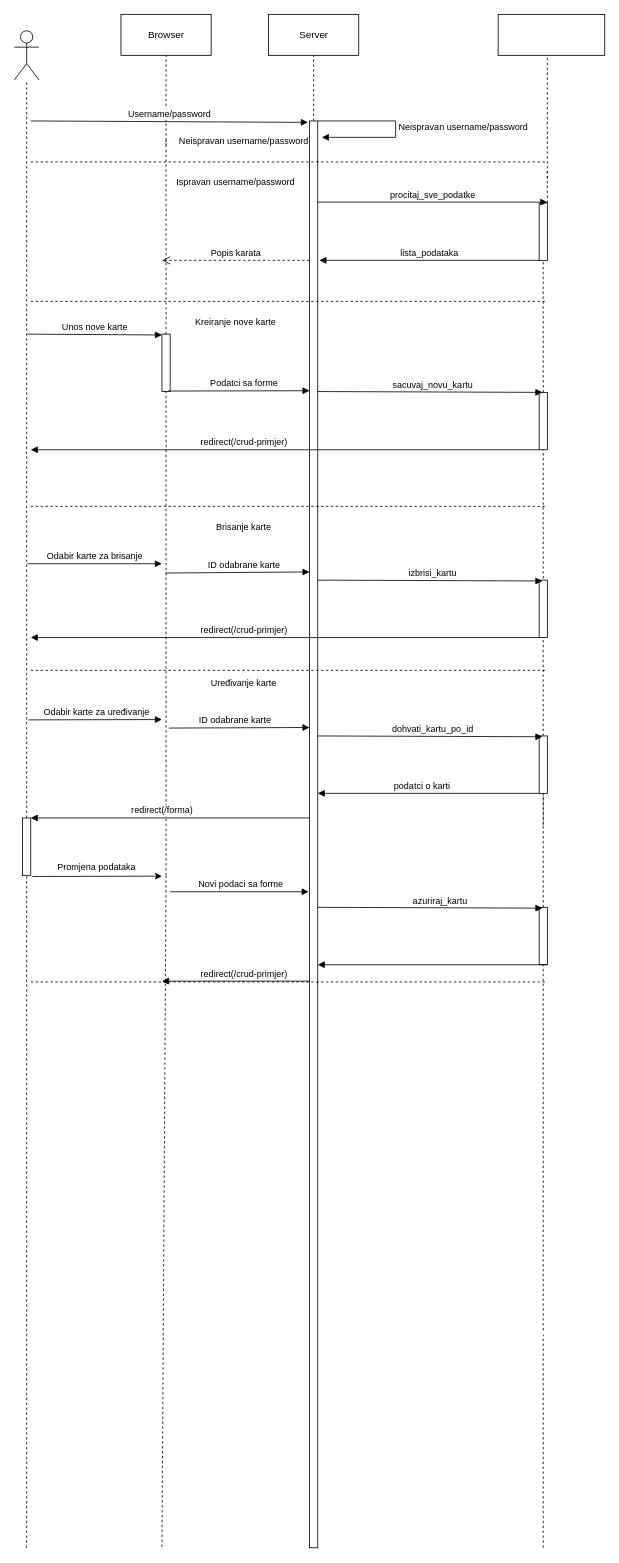
Image size: 619x1563. Some labels were removed from this diagram. The shapes that lost their labels are listed below. From the top down, each one's box as (x1, y1, x2, y2) in pixels, then its label:
(497, 14, 605, 55): Baza
(14, 30, 39, 80): User
